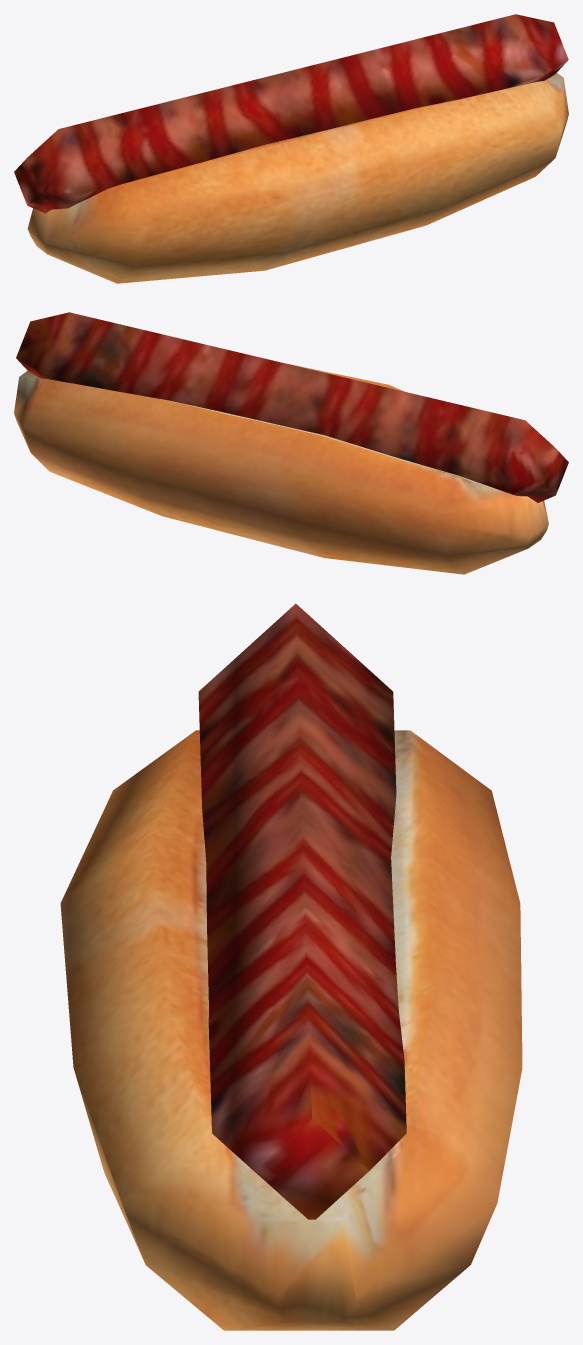
File: Hotdog_03.fbx
The picture shows the model from 3 angles, top to bottom: view 1: azimuth 30°, elevation 25°; view 2: azimuth 150°, elevation 25°; view 3: azimuth 270°, elevation 25°; orthographic projection. The views are drawn at different scales.
Visible parts, largest first — view 1: Hotdog_03; view 2: Hotdog_03; view 3: Hotdog_03.
Part boxes in pixels (box(x1,y1,x2,y2)): Hotdog_03: box(14, 14, 568, 283); Hotdog_03: box(14, 312, 568, 574); Hotdog_03: box(60, 603, 522, 1330).
Bounding box in the file's own units: 26.85 × 7.71 × 10.18.
